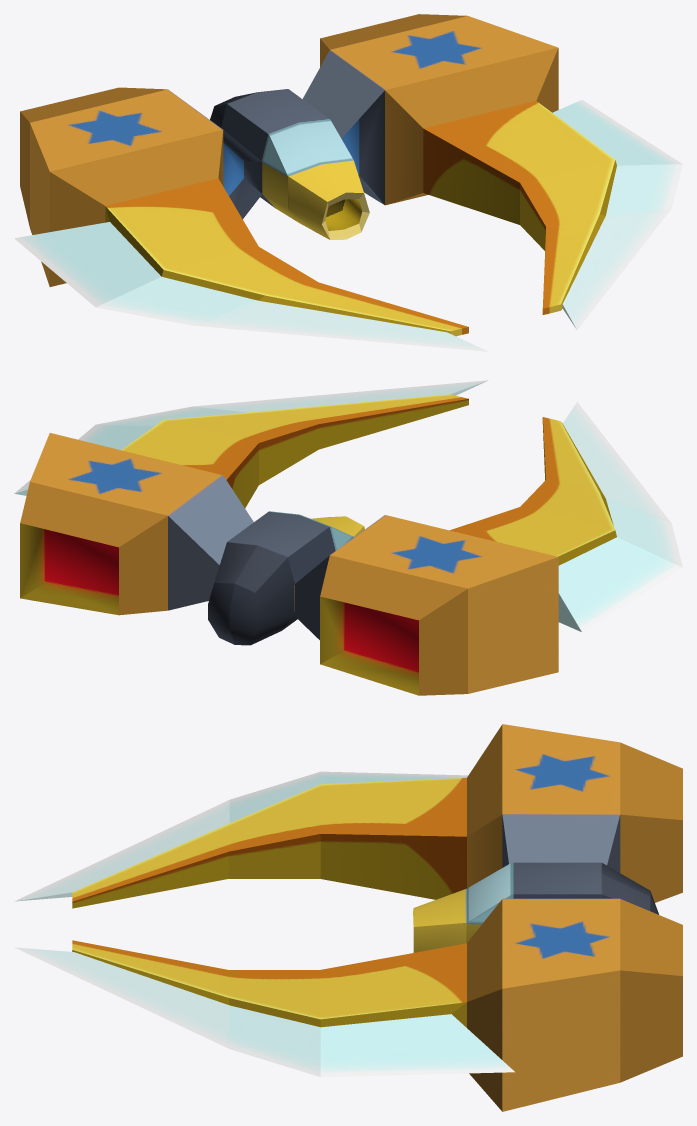
The model's file is IceBlades.fbx.
The picture shows the model from 3 angles, top to bottom: view 1: azimuth 30°, elevation 25°; view 2: azimuth 150°, elevation 25°; view 3: azimuth 270°, elevation 25°; orthographic projection. The views are drawn at different scales.
Parts seen in each view (by area): view 1: Model; view 2: Model; view 3: Model.
Boxes of the visible parts, box(x1,y1,x2,y2) form: Model: box(14, 14, 682, 351); Model: box(14, 380, 682, 695); Model: box(14, 724, 682, 1111).
Size of the model in its own units: 726 by 136 by 672.
Materials: 2 (2 with a texture image).
